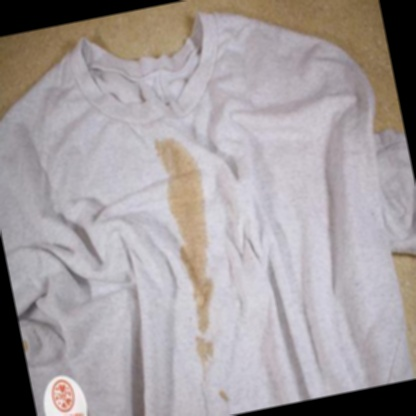coffee: (159, 137, 211, 250), (183, 248, 220, 327)
